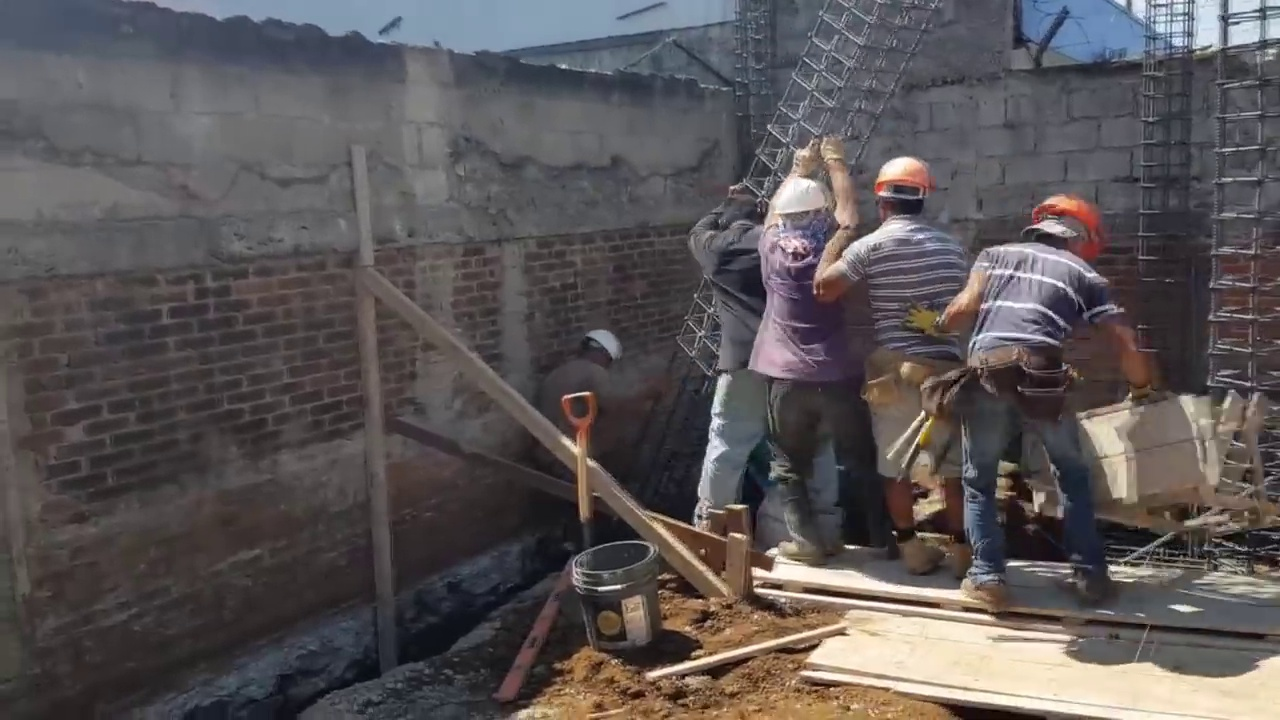helmet: (1034, 195, 1104, 261), (877, 155, 935, 201), (770, 170, 832, 213), (583, 329, 622, 362)
helmet-off: (718, 189, 765, 233)
helmet-on: (1020, 189, 1105, 261), (767, 170, 836, 251), (874, 155, 936, 229), (573, 329, 620, 370)
person: (911, 188, 1157, 618), (842, 149, 978, 570), (756, 130, 875, 564), (682, 187, 775, 566), (532, 324, 666, 479)
